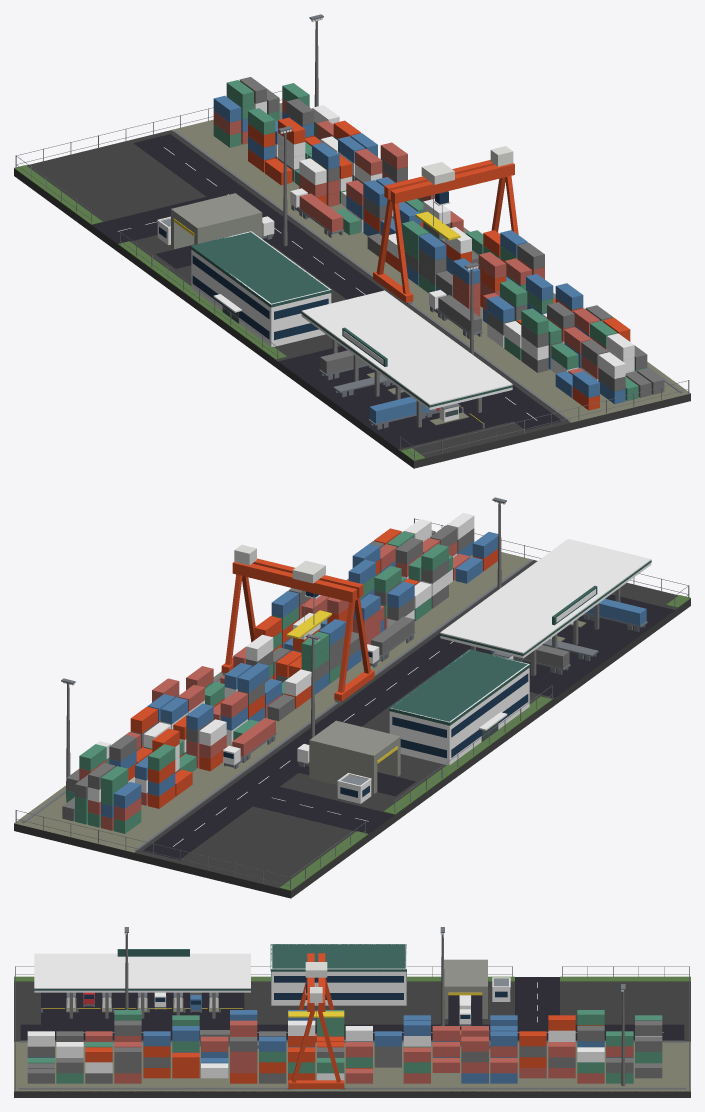
Rendered from top-prebuilt.fbx.
The picture shows the model from 3 angles, top to bottom: view 1: azimuth 30°, elevation 25°; view 2: azimuth 150°, elevation 25°; view 3: azimuth 270°, elevation 25°; orthographic projection. The views are drawn at different scales.
Parts seen in each view (by area): view 1: a1081_0_top-prebuilt; view 2: a1081_0_top-prebuilt; view 3: a1081_0_top-prebuilt.
Part boxes in pixels (x1,y1,x2,y2): a1081_0_top-prebuilt: (14, 14, 690, 468); a1081_0_top-prebuilt: (14, 497, 690, 898); a1081_0_top-prebuilt: (14, 927, 690, 1097).
Bounding box in the file's own units: 60 × 25.75 × 150.
